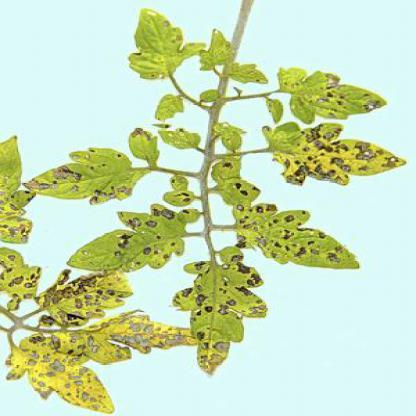Tomato Septoria leaf spot: (1, 301, 216, 415), (14, 127, 175, 226), (173, 242, 276, 392), (61, 195, 200, 296), (256, 121, 414, 190), (226, 198, 373, 272), (270, 59, 414, 127), (20, 272, 138, 340), (118, 10, 208, 94)
